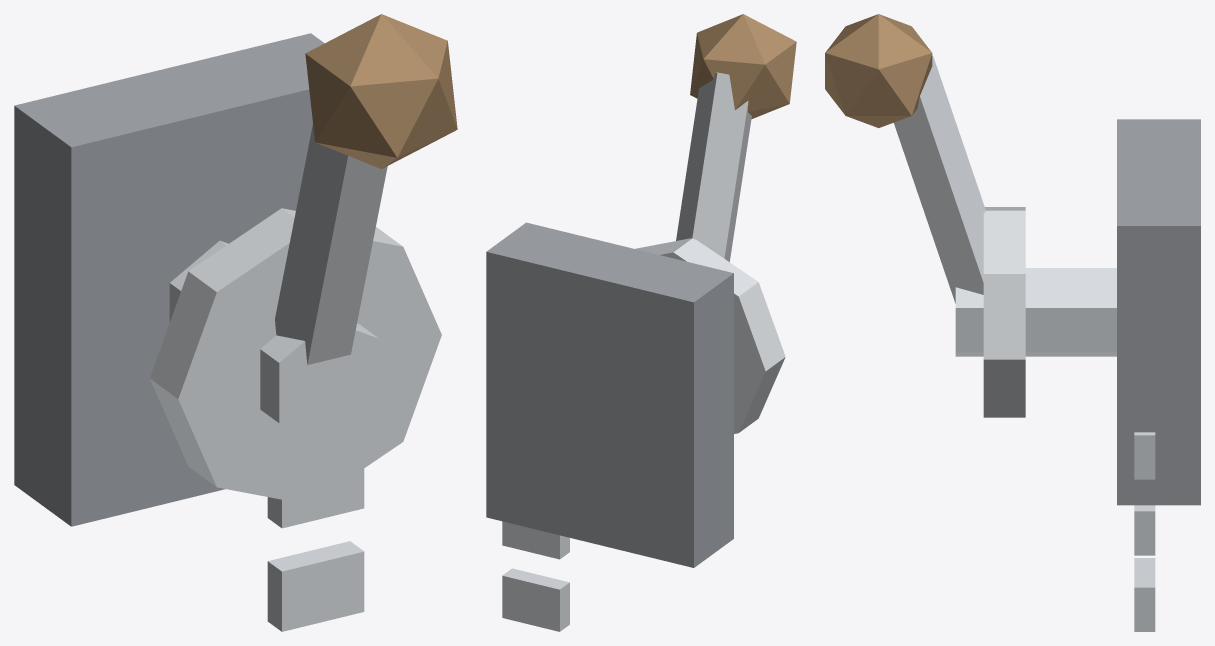
File: dungeon_crank.glb
3 renders of one model, left to right at view 1: azimuth 30°, elevation 25°; view 2: azimuth 150°, elevation 25°; view 3: azimuth 270°, elevation 25°, orthographic. The views are drawn at different scales.
Visible parts, largest first — view 1: mount.001, gear, grip.001, arm, axle, chain_0.001, chain_1.001; view 2: mount.001, arm, grip.001, gear, chain_0.001, chain_1.001; view 3: mount.001, arm, axle, grip.001, gear, chain_0.001, chain_1.001, chain_2.001.
Part boxes in pixels (bbox=[...]): mount.001: bbox=[14, 33, 324, 526]; gear: bbox=[149, 208, 441, 504]; grip.001: bbox=[305, 14, 457, 168]; arm: bbox=[275, 124, 387, 364]; axle: bbox=[169, 240, 378, 440]; chain_0.001: bbox=[267, 541, 364, 631]; chain_1.001: bbox=[267, 468, 364, 528]; mount.001: bbox=[486, 222, 733, 567]; arm: bbox=[676, 72, 751, 261]; grip.001: bbox=[690, 14, 796, 119]; gear: bbox=[635, 238, 785, 433]; chain_0.001: bbox=[502, 568, 569, 631]; chain_1.001: bbox=[502, 521, 569, 559]; mount.001: bbox=[1117, 119, 1200, 505]; arm: bbox=[894, 56, 985, 303]; axle: bbox=[955, 268, 1116, 356]; grip.001: bbox=[825, 14, 932, 128]; gear: bbox=[983, 207, 1025, 417]; chain_0.001: bbox=[1134, 558, 1155, 631]; chain_1.001: bbox=[1134, 505, 1155, 555]; chain_2.001: bbox=[1134, 432, 1155, 479].
Bounding box in the file's own units: 0.37 × 0.885 × 0.5366.
